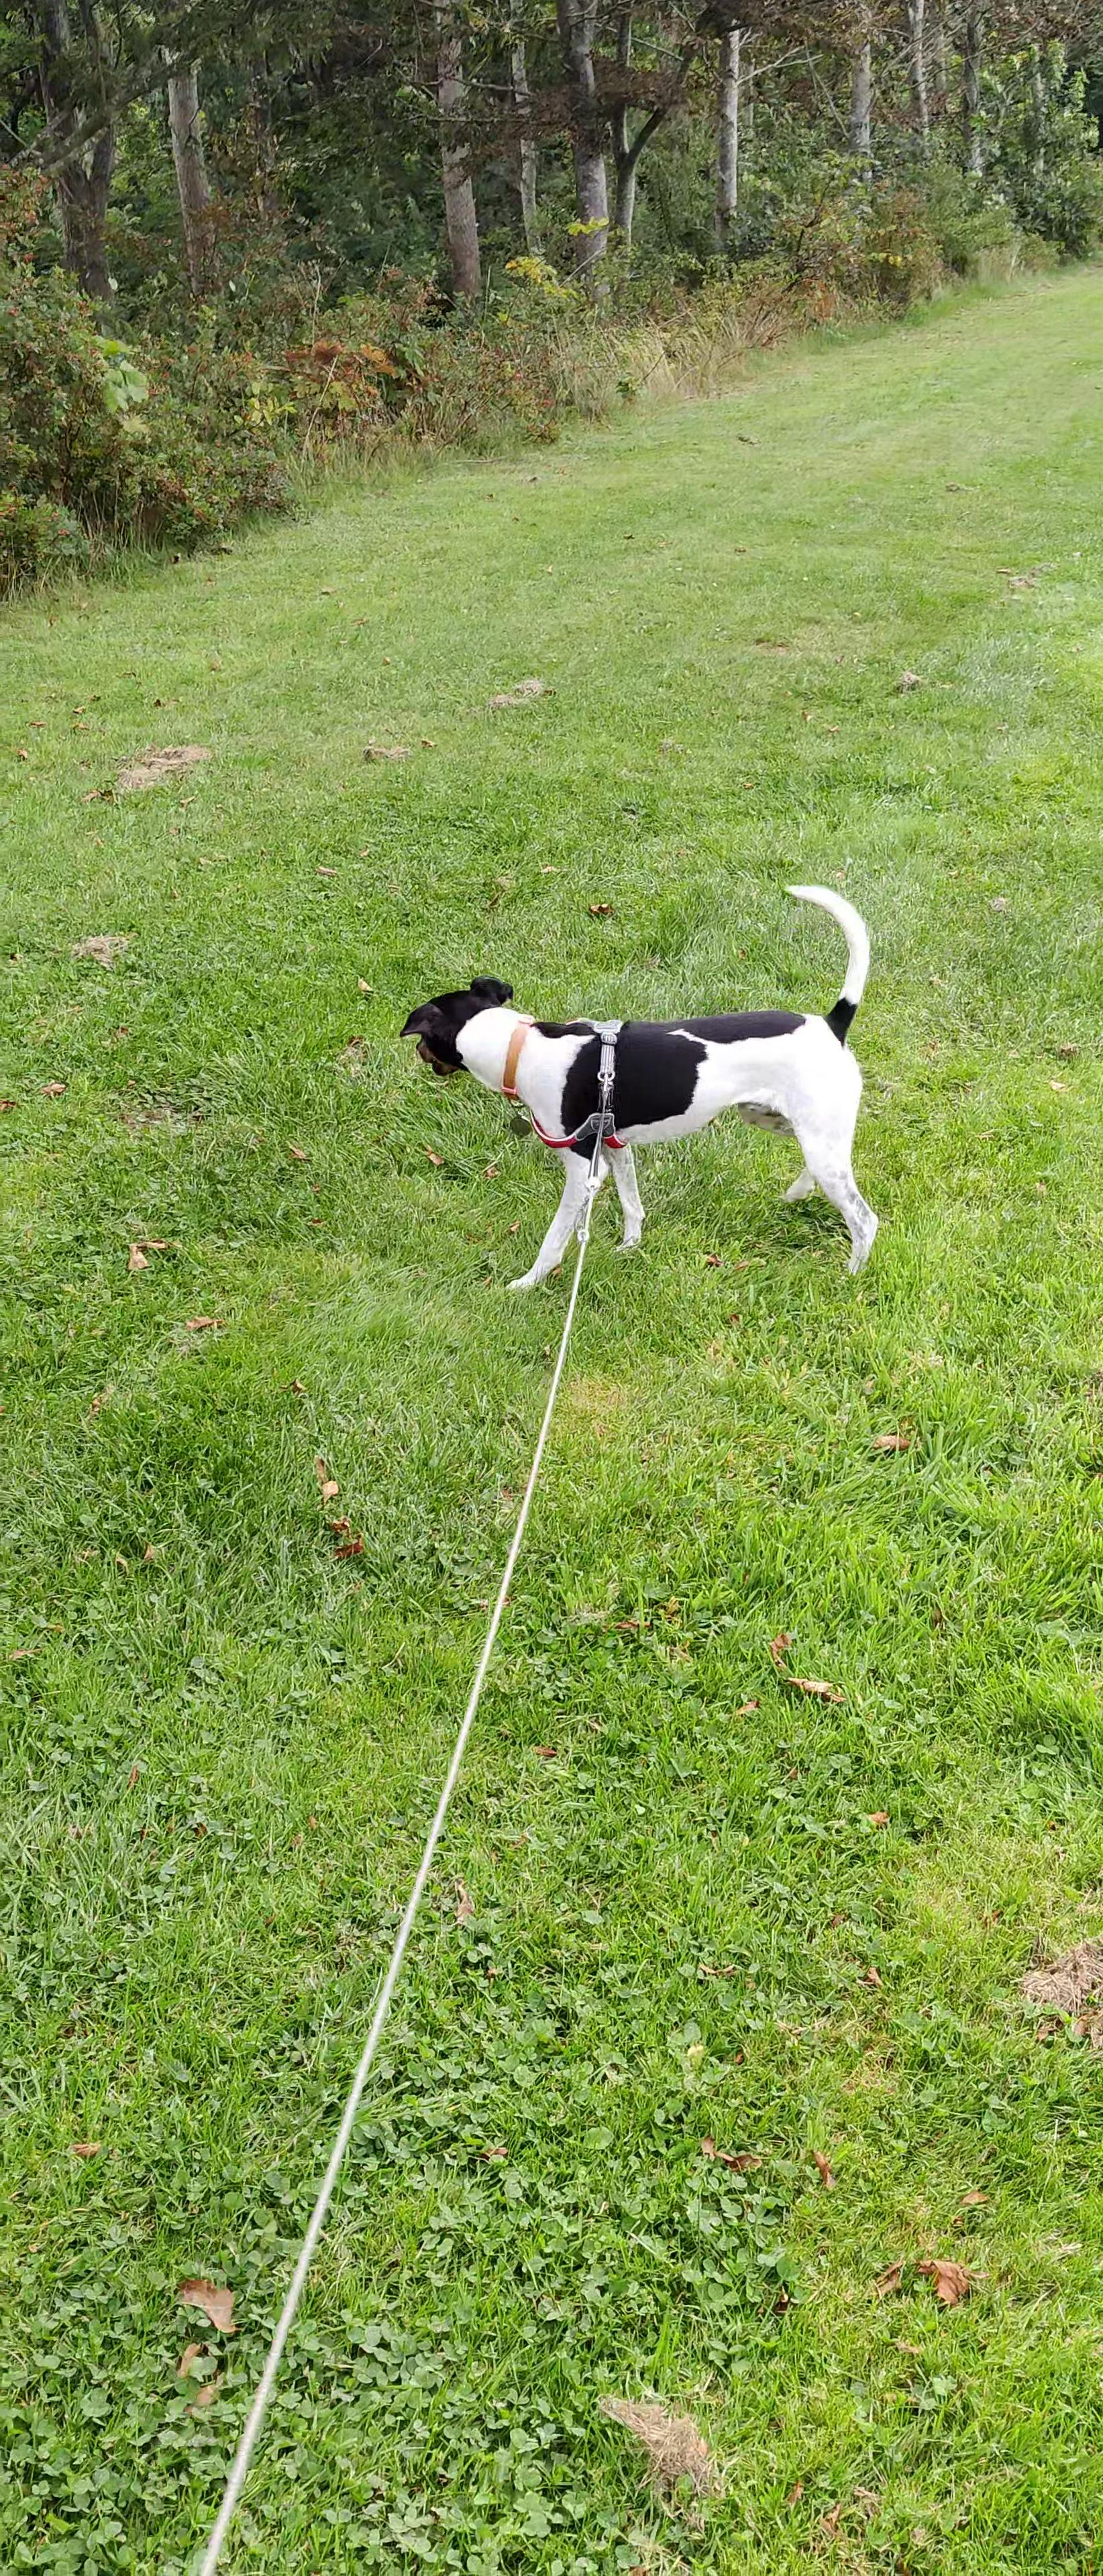Dog: (393, 879, 884, 1291)
